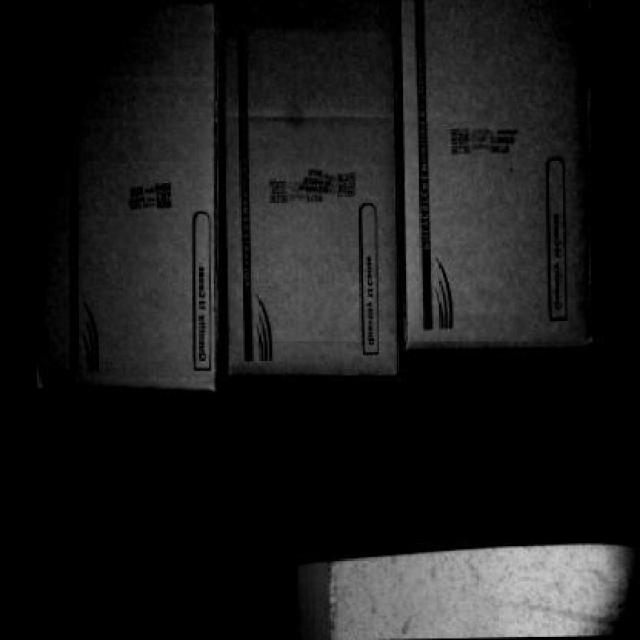cardboxes: (21, 4, 222, 396), (398, 0, 602, 349), (214, 0, 400, 382)
